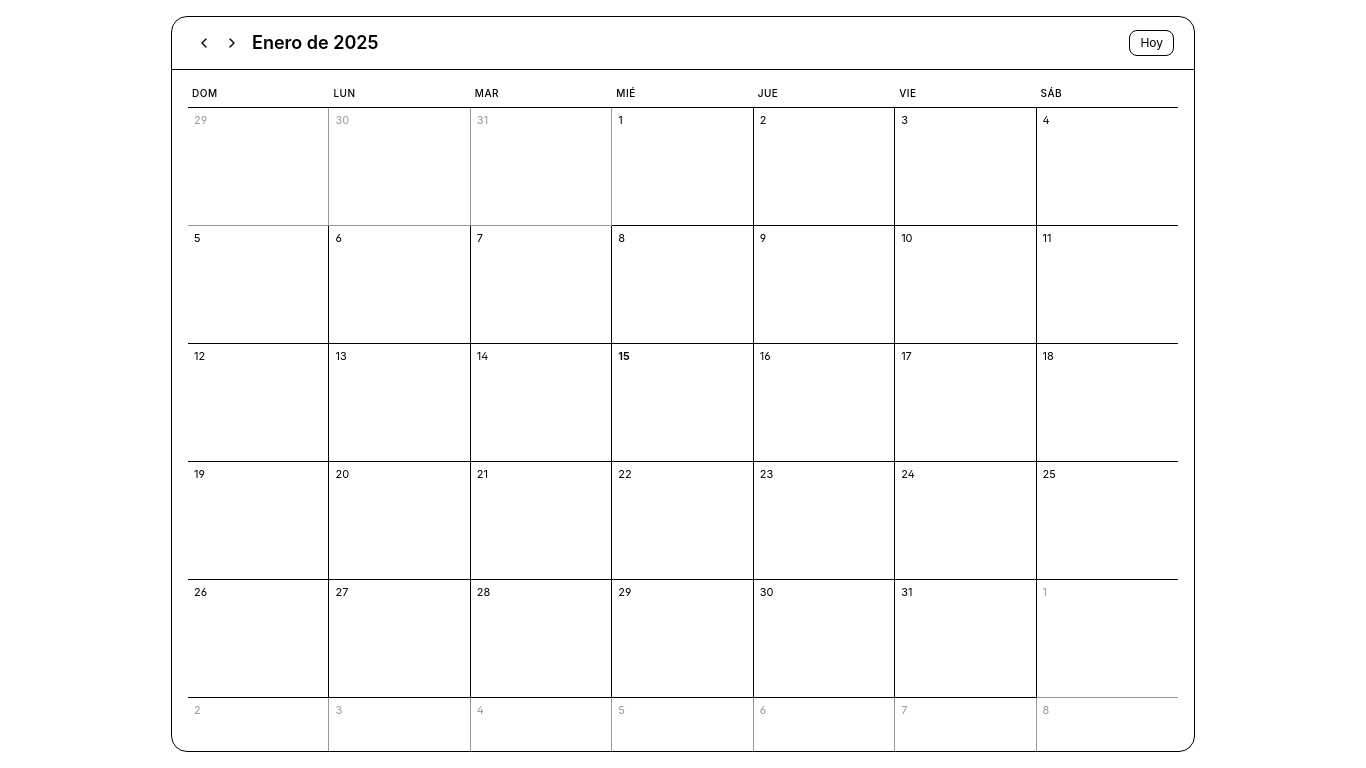
Scenario: MonthAgendaPopup › 'Hoy' vuelve al mes de hoy después de navegar
Click the button with test id "month-agenda-next": (232, 43) [220, 31, 244, 55]
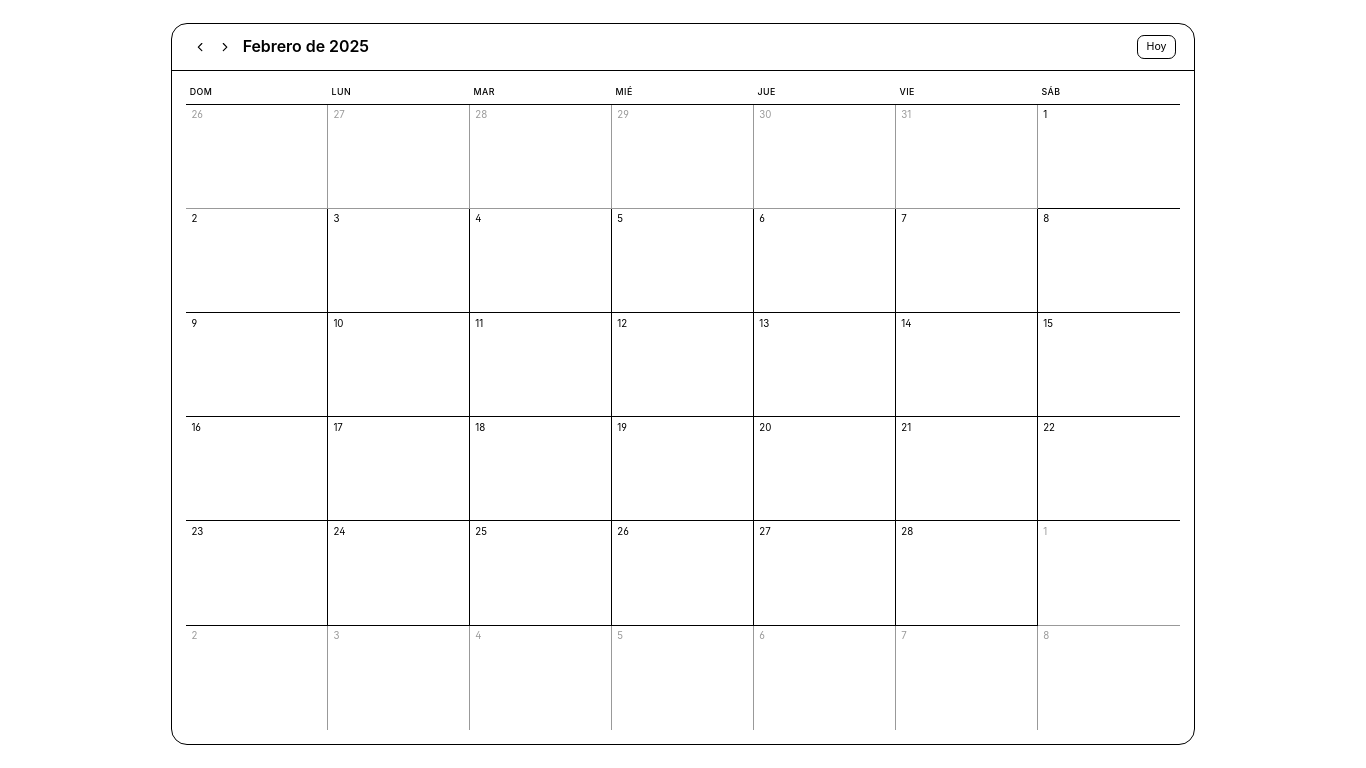
Click the button with test id "month-agenda-next": (225, 47) [214, 36, 236, 58]
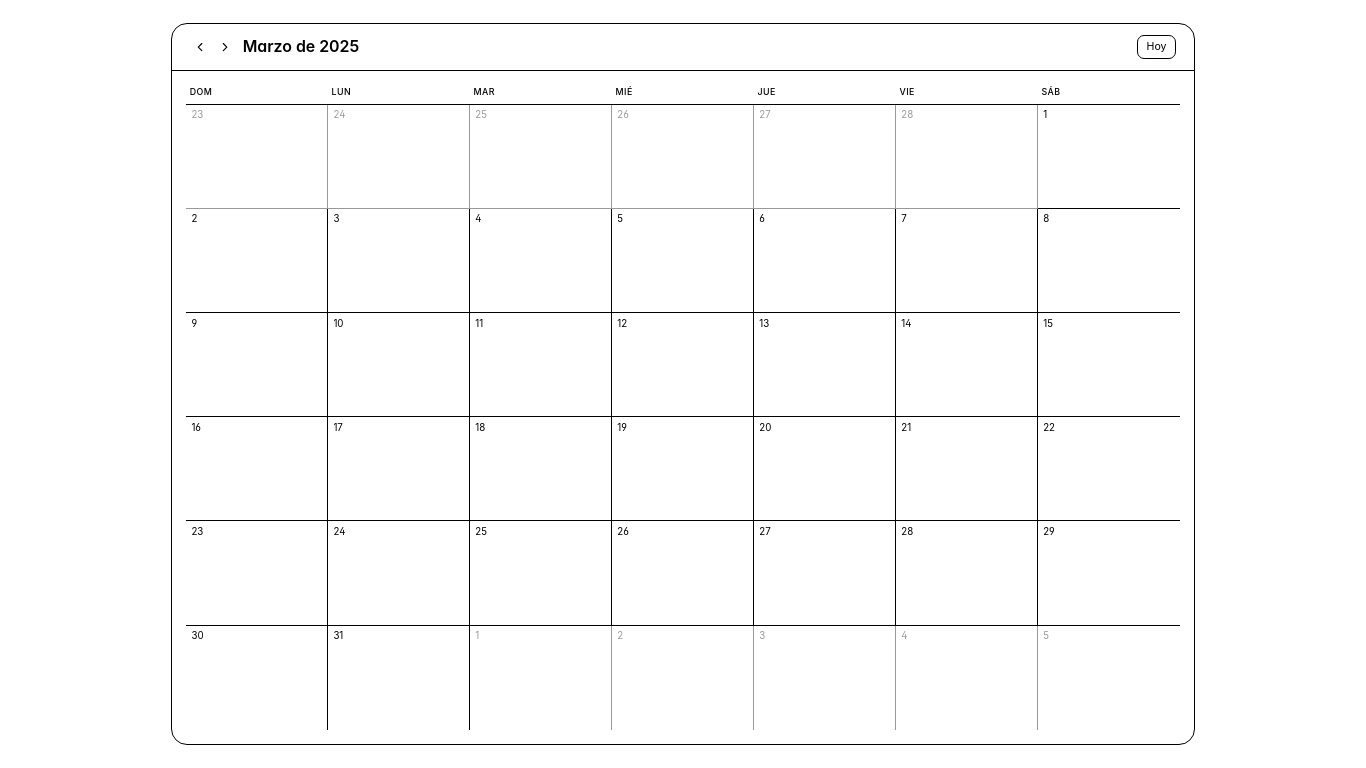
Click the button with test id "month-agenda-hoy": (1156, 47) [1137, 35, 1176, 58]
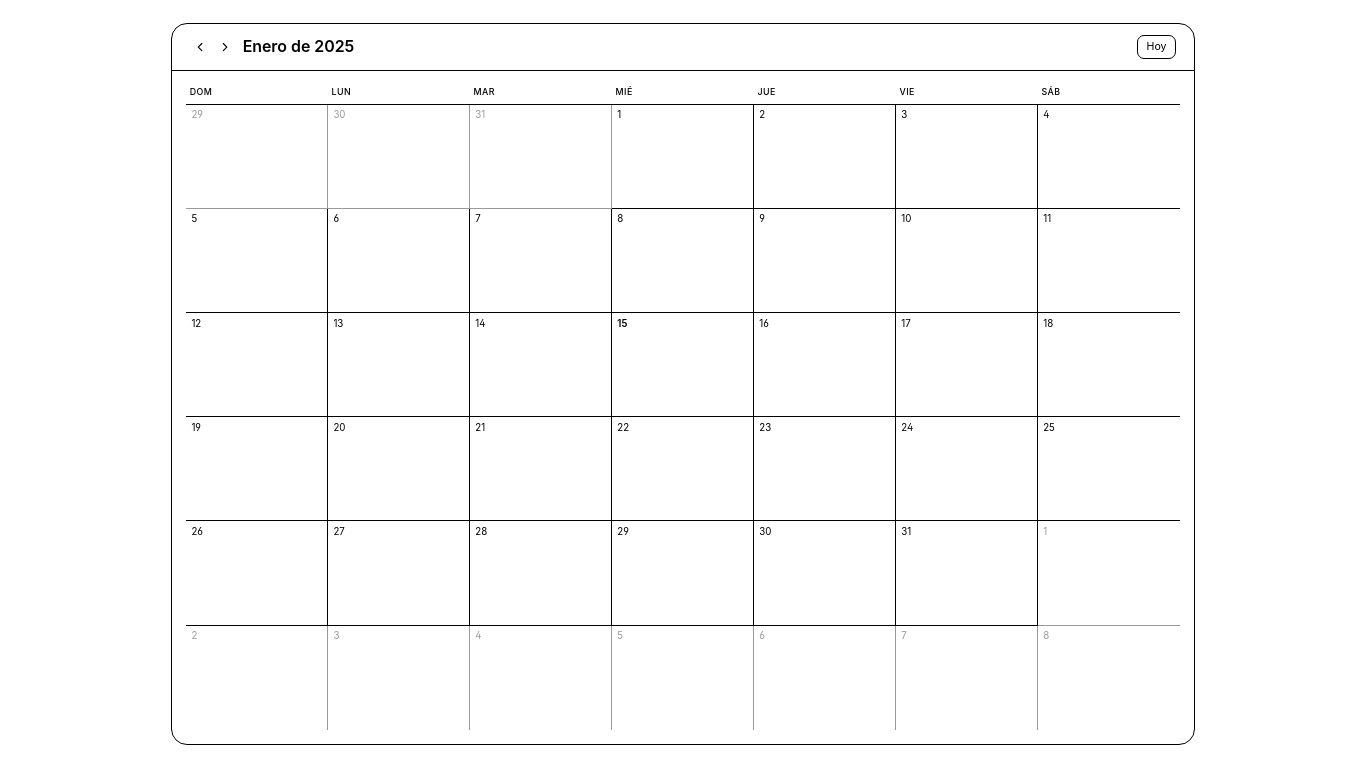
Result: the text with test id "month-agenda-title" reads "Enero de 2025" at [243, 36, 354, 56]
